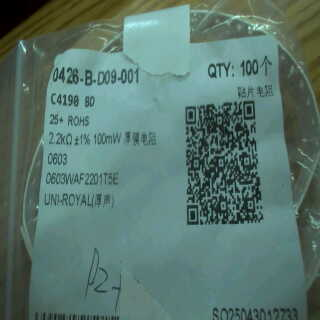2.2kR: (47, 129, 72, 147)
